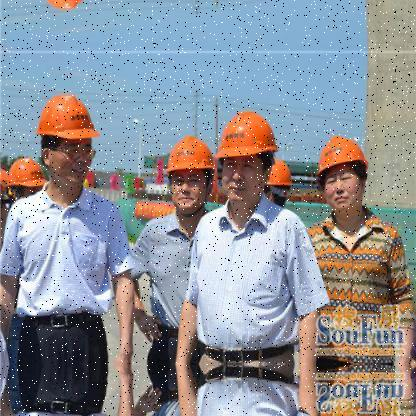Helmet: (40, 98, 112, 195), (214, 111, 278, 197), (310, 130, 369, 210), (160, 138, 218, 216), (256, 150, 300, 209), (6, 153, 50, 208)
